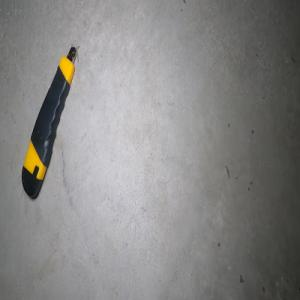Cutter: (21, 45, 78, 199)
